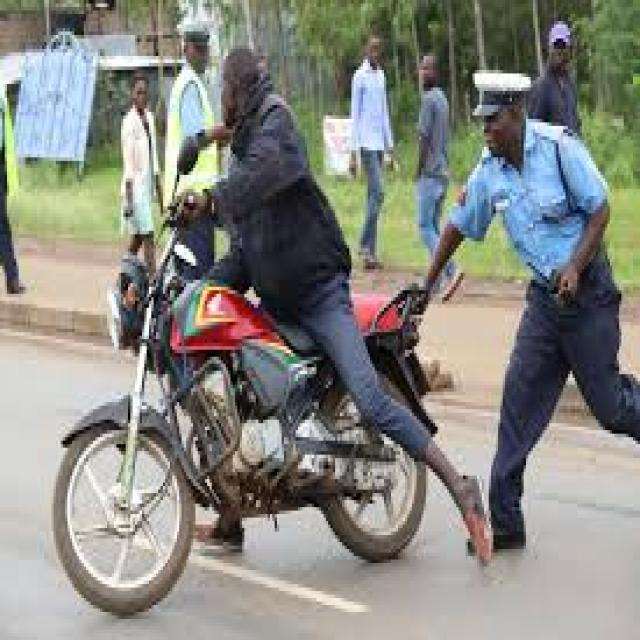bodaboda: (46, 113, 474, 623)
